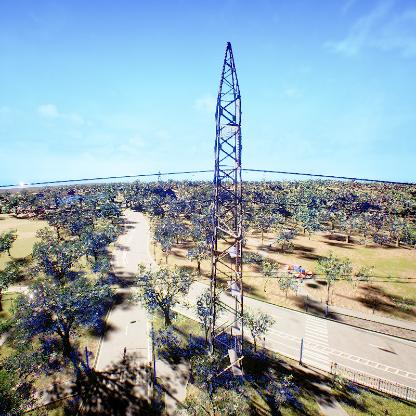tower: (199, 37, 254, 396)
